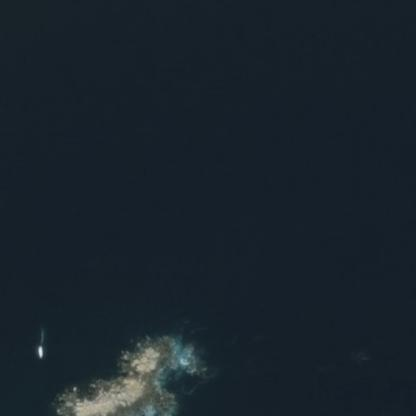ship: (29, 340, 48, 362)
